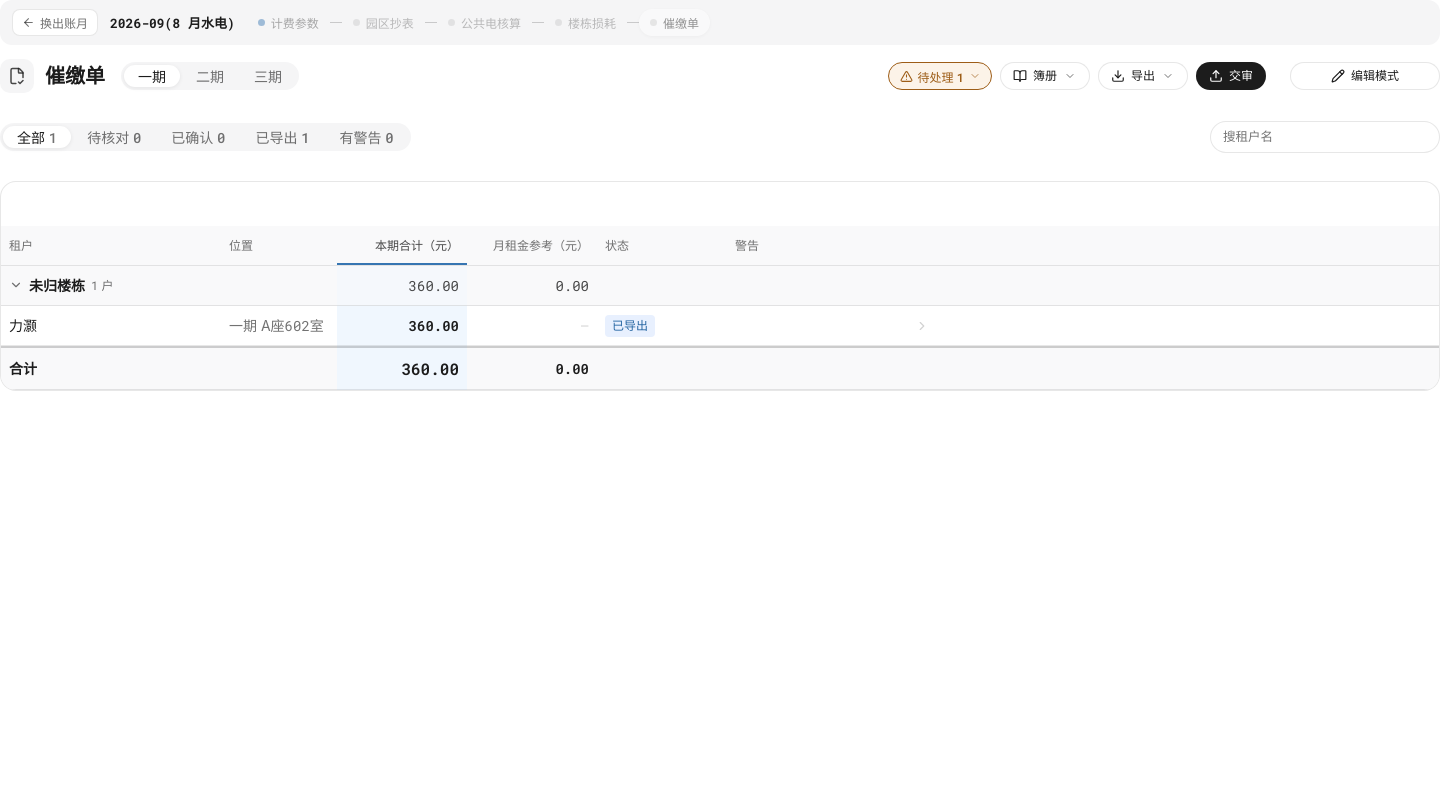
Test: 催缴单 · 需重算的来源 › ❗只因抄表过期 → 组名「改过抄表还没重算」,主语是抄表数据
What coordinates should you click on to do the following:
click the button with class "fac"
I would click on:
 (940, 76)
Its box is [888,62,992,90].
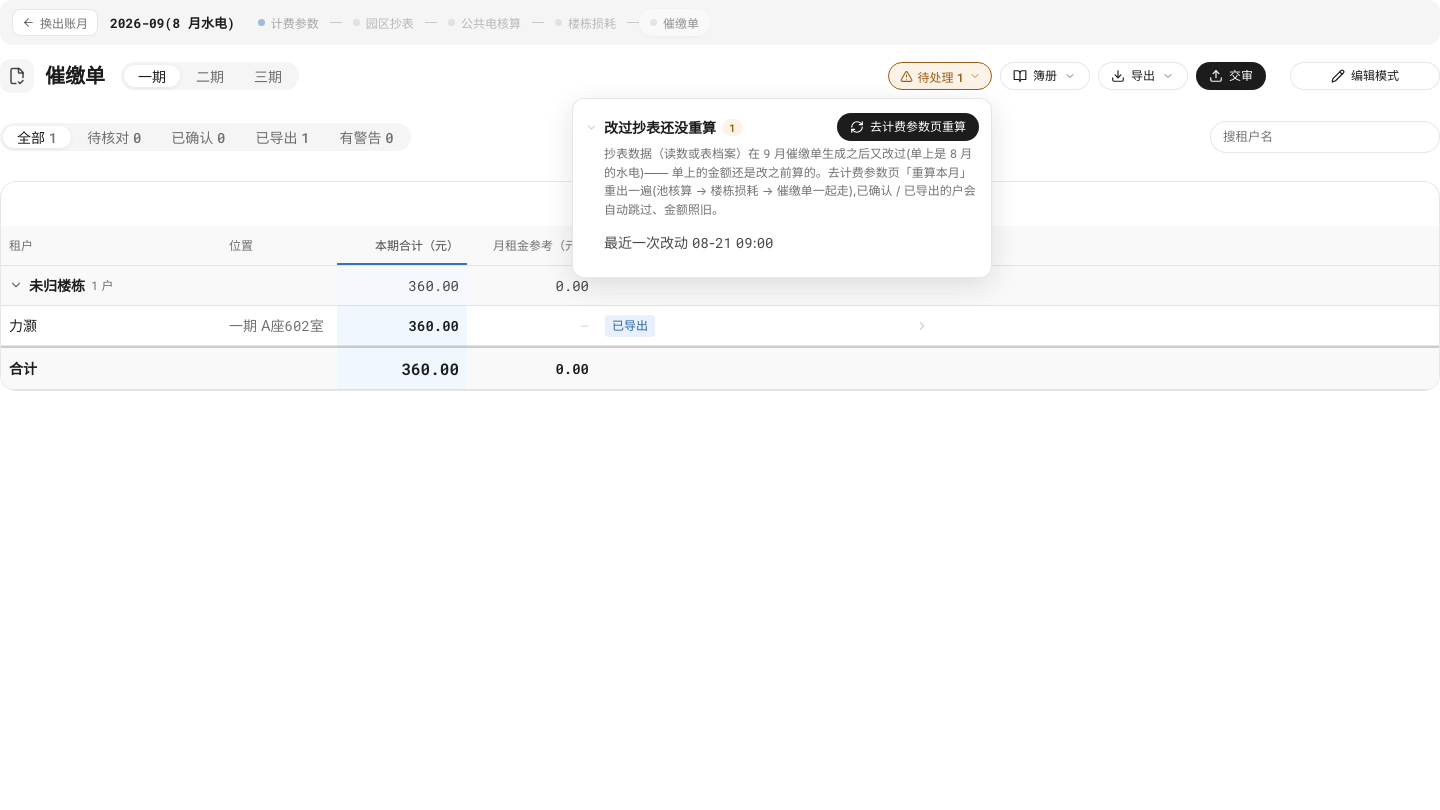
Expected: the text "改过抄表还没重算" is shown, [604,117,716,137]
Expected: the text "抄表数据（读数或表档案）在 9 月催缴单生成之后又改过(单上是 8 月的水电)" is shown, [604,146,976,217]
Expected: the text "最近一次改动 08-21 09:00" is shown, [604,234,774,251]
